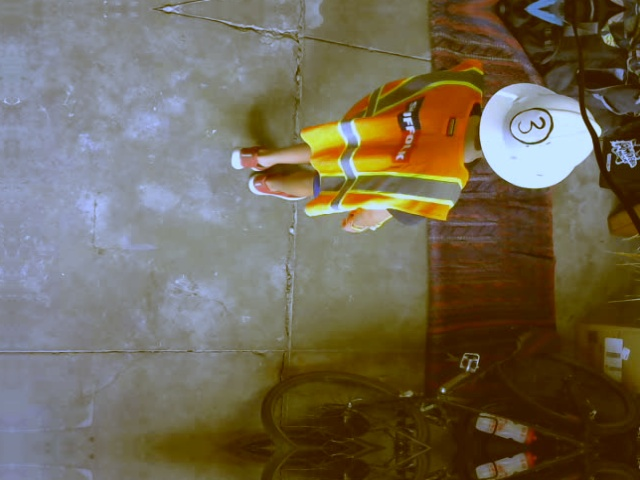three: (509, 107, 552, 144)
